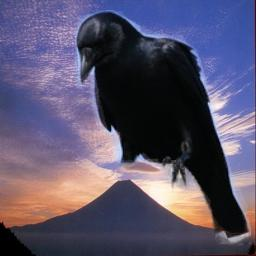Crow: (73, 10, 251, 249)
